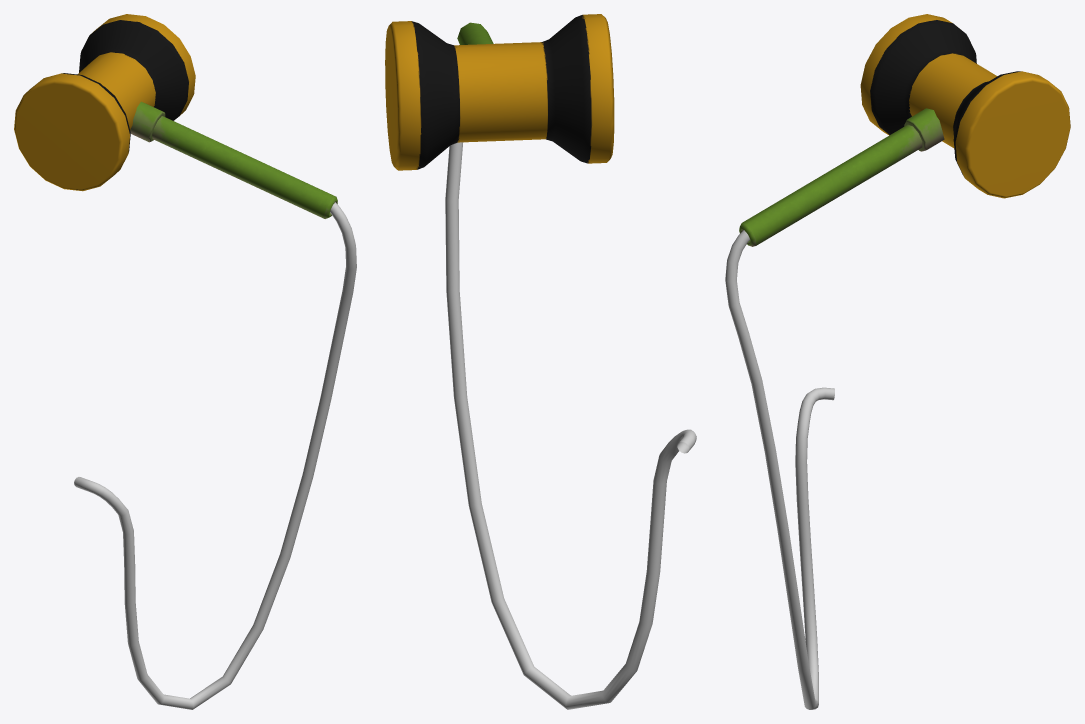
File: TanukiWhacker_Hammer.FBX
3 views of the same model, side by side, from view 1: azimuth 30°, elevation 25°; view 2: azimuth 150°, elevation 25°; view 3: azimuth 270°, elevation 25° (orthographic). The views are drawn at different scales.
Visible parts, largest first — view 1: TanukiWhacker_Hammer; view 2: TanukiWhacker_Hammer; view 3: TanukiWhacker_Hammer.
Part boxes in pixels (x1,y1,x2,y2): TanukiWhacker_Hammer: [14, 14, 356, 709]; TanukiWhacker_Hammer: [385, 14, 696, 709]; TanukiWhacker_Hammer: [725, 14, 1070, 709].
Bounding box in the file's own units: 24.61 × 61.01 × 29.2.
